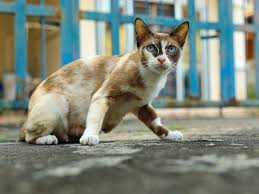cat: (10, 12, 195, 156)
